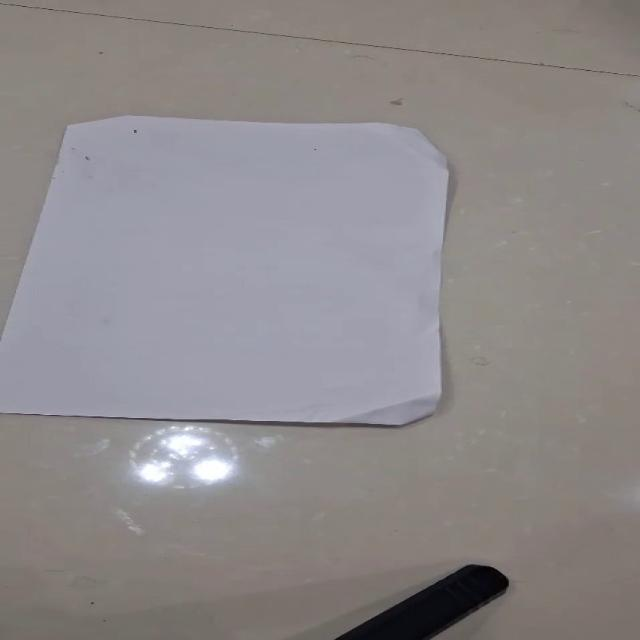paper: (0, 114, 450, 427)
